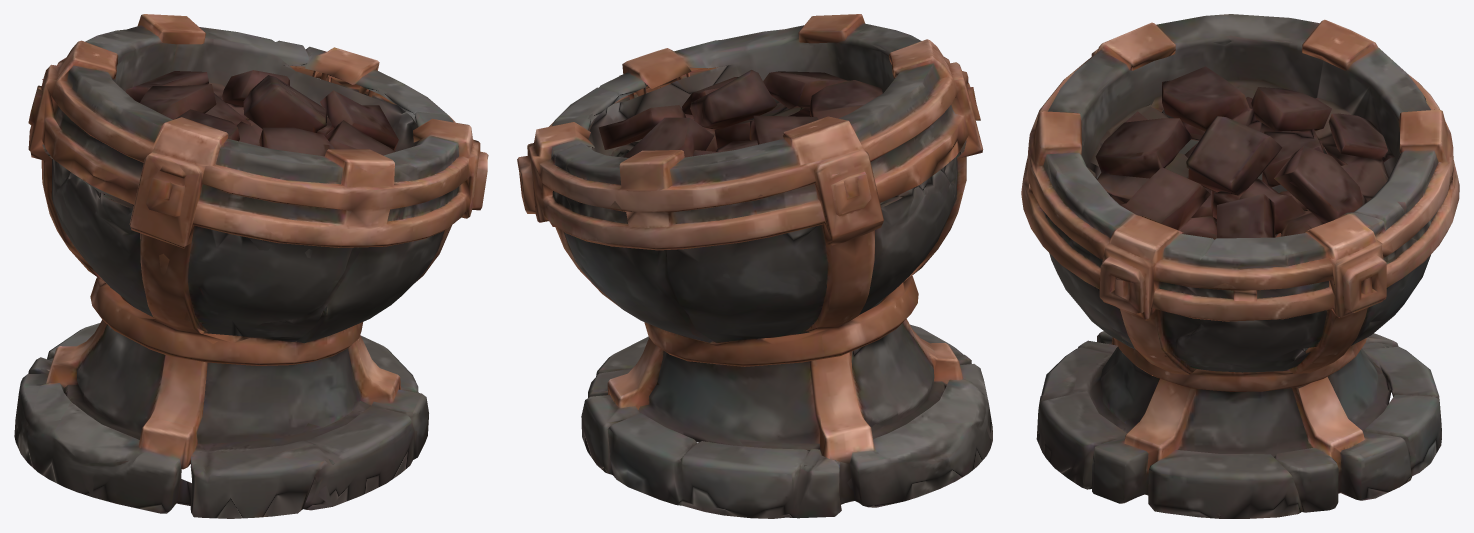
The model's file is kindling-brazier.glb.
The picture shows the model from 3 angles, left to right: view 1: azimuth 30°, elevation 25°; view 2: azimuth 150°, elevation 25°; view 3: azimuth 270°, elevation 25°; orthographic projection.
Size of the model in its own units: 4.8 by 4.2 by 4.55.
1 material, 1 textured.
